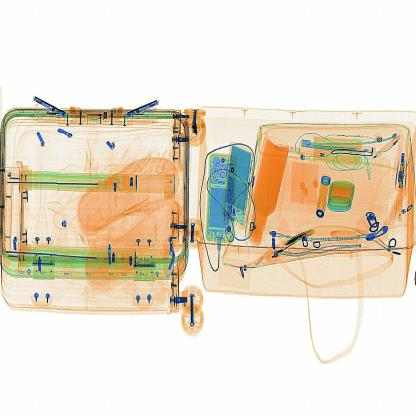wrench: (281, 215, 329, 263)
